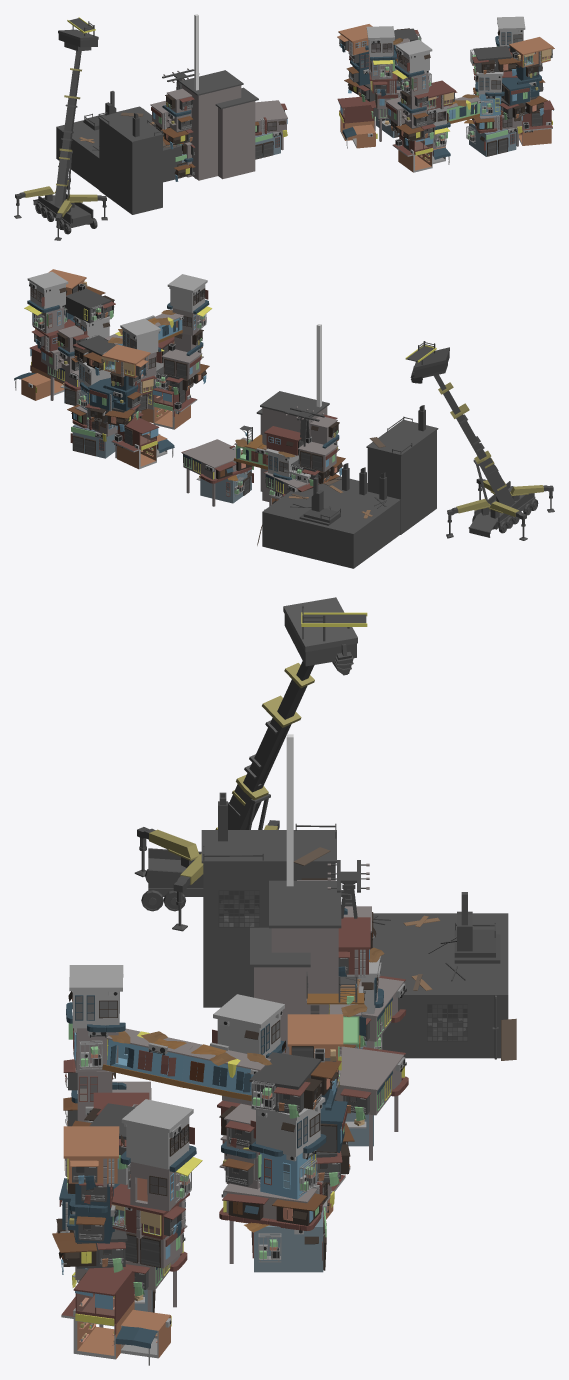
The model's file is Batiment2.fbx.
The picture shows the model from 3 angles, top to bottom: view 1: azimuth 30°, elevation 25°; view 2: azimuth 150°, elevation 25°; view 3: azimuth 270°, elevation 25°; orthographic projection. The views are drawn at different scales.
Visible parts, largest first — view 1: Blocos, Batiment1, Grue, PAT.001, VerticalA.006, Magasin.003, VerticalA.005, Magasin.001, VerticalB.003, VerticalB.001, Base.006, HorizontalA.003 (+17 smaller); view 2: Blocos, Grue, Base.006, Batiment1, Magasin.003, VerticalA.003, VerticalA.006, PAT.002, VerticalB.005, Magasin.001, VerticalB.001, VerticalA.005 (+20 smaller); view 3: Blocos, Grue, Batiment1, PAT.002, Magasin.002, VerticalA.003, VerticalA.004, VerticalA.006, HorizontalA.005, Base.006, VerticalA.005, Pont.003 (+17 smaller).
Part boxes in pixels (x1,y1,x2,y2): Blocos: (56, 91, 181, 214); Batiment1: (179, 70, 258, 180); Grue: (14, 17, 107, 240); PAT.001: (464, 104, 522, 156); VerticalA.006: (392, 39, 432, 96); Magasin.003: (337, 97, 377, 148); VerticalA.005: (365, 26, 396, 79); Magasin.001: (392, 133, 450, 172); VerticalB.003: (501, 63, 545, 105); VerticalB.001: (385, 91, 429, 128); Base.006: (255, 100, 287, 157); HorizontalA.003: (470, 46, 520, 76); Blocos: (257, 405, 438, 568); Grue: (405, 341, 554, 540); Base.006: (182, 439, 251, 506); Batiment1: (244, 391, 329, 501); Magasin.003: (111, 417, 174, 469); VerticalA.003: (24, 271, 68, 333); VerticalA.006: (167, 274, 211, 335); PAT.002: (67, 404, 143, 458); VerticalB.005: (88, 372, 142, 411); Magasin.001: (141, 387, 197, 429); VerticalB.001: (161, 329, 203, 379); VerticalA.005: (120, 318, 164, 379); Blocos: (201, 792, 516, 1060); Grue: (134, 597, 367, 931); Batiment1: (250, 880, 364, 1054); PAT.002: (219, 1181, 334, 1272); Magasin.002: (61, 1267, 171, 1365); VerticalA.003: (120, 1099, 202, 1211); VerticalA.004: (243, 1097, 326, 1199); VerticalA.006: (66, 965, 125, 1071); HorizontalA.005: (249, 1052, 341, 1118); Base.006: (334, 1046, 403, 1160); VerticalA.005: (212, 994, 286, 1105); Pont.003: (102, 1028, 195, 1087).
Size of what is drawn, in the model's own units: 9529 by 3214 by 3832.
